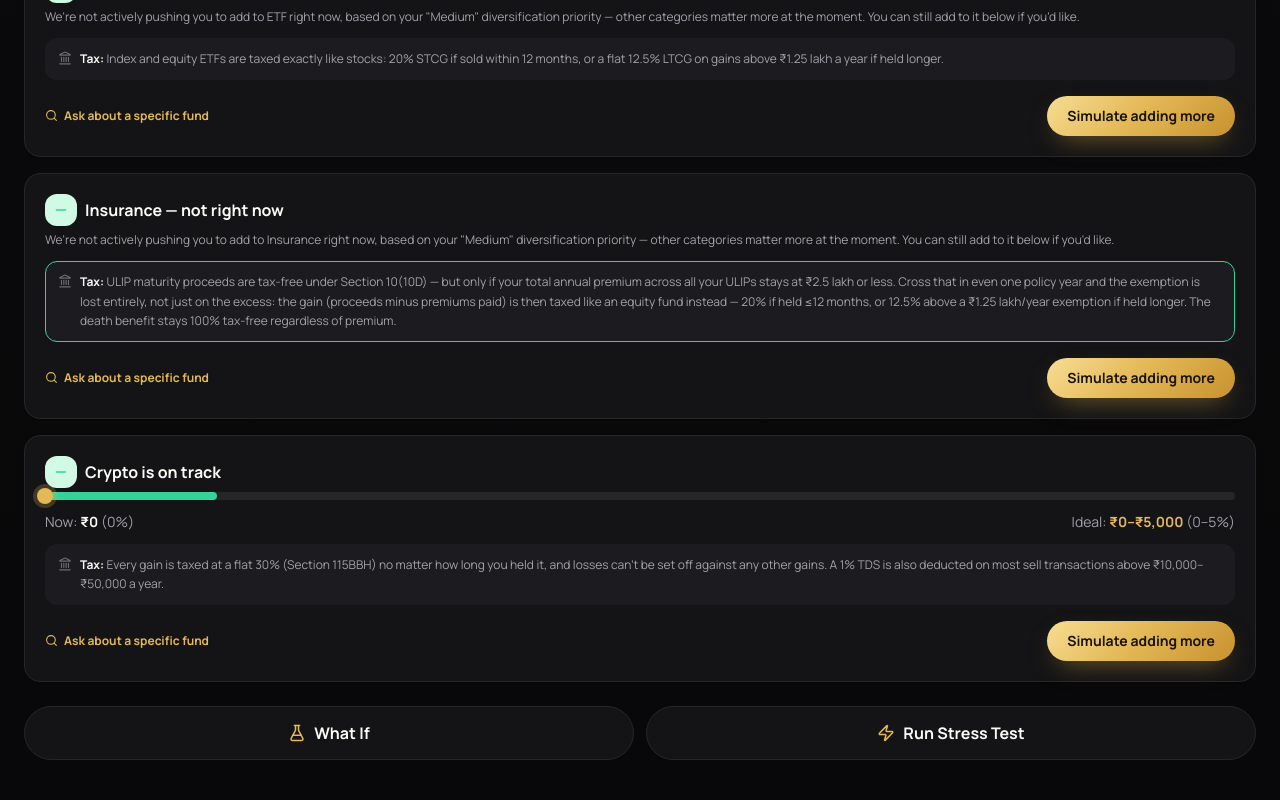
Scenario: Suggestions — What If / Run Stress Test button split › keeps the What If scenarios' content unchanged — a pure restyle, not a content change
This screenshot has width=1280, height=800.
(page scrolled)
Click the button with test id "what-if-btn" at x=329, y=732, box [24,706,634,760]
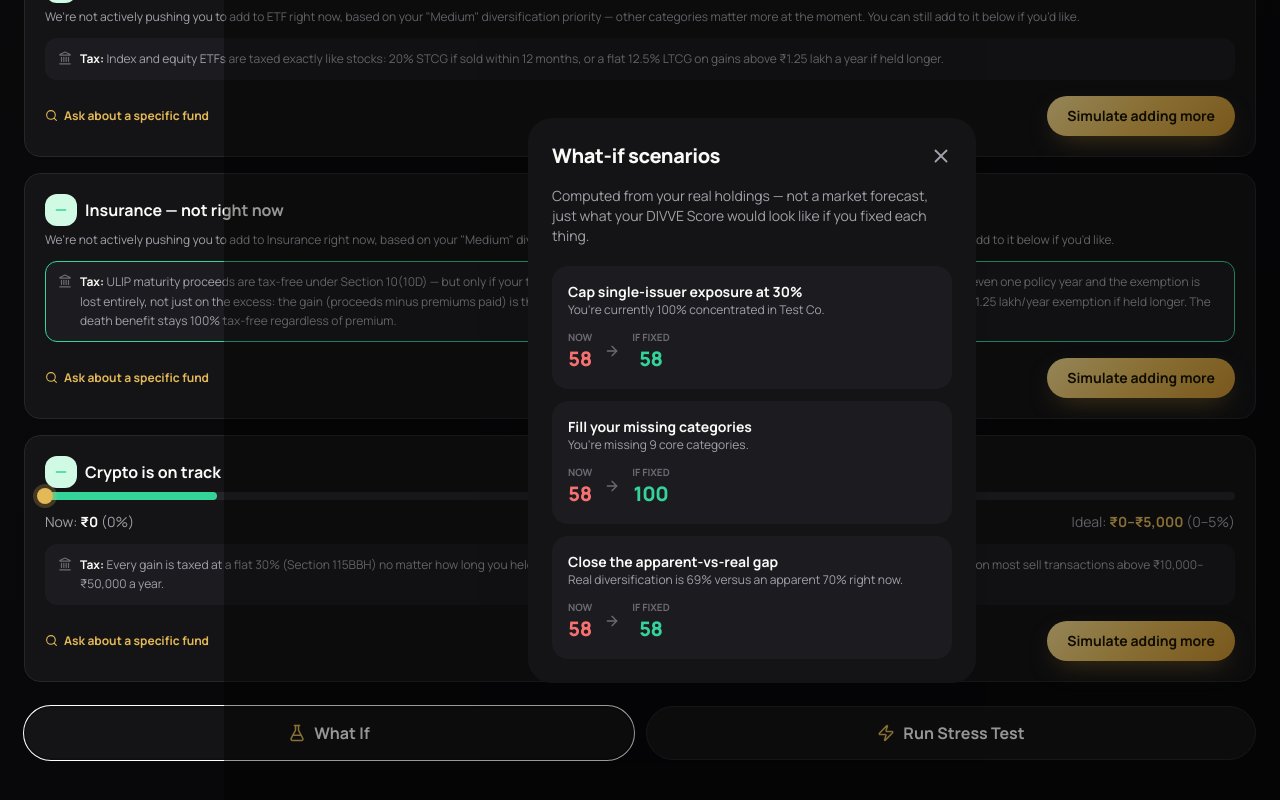
Now the text "Cap single-issuer exposure at 30%" is shown, box [568,282,802,300]
Now the text "Fill your missing categories" is shown, box [568,416,752,436]
Now the text "Close the apparent-vs-real gap" is shown, box [568,552,778,570]
